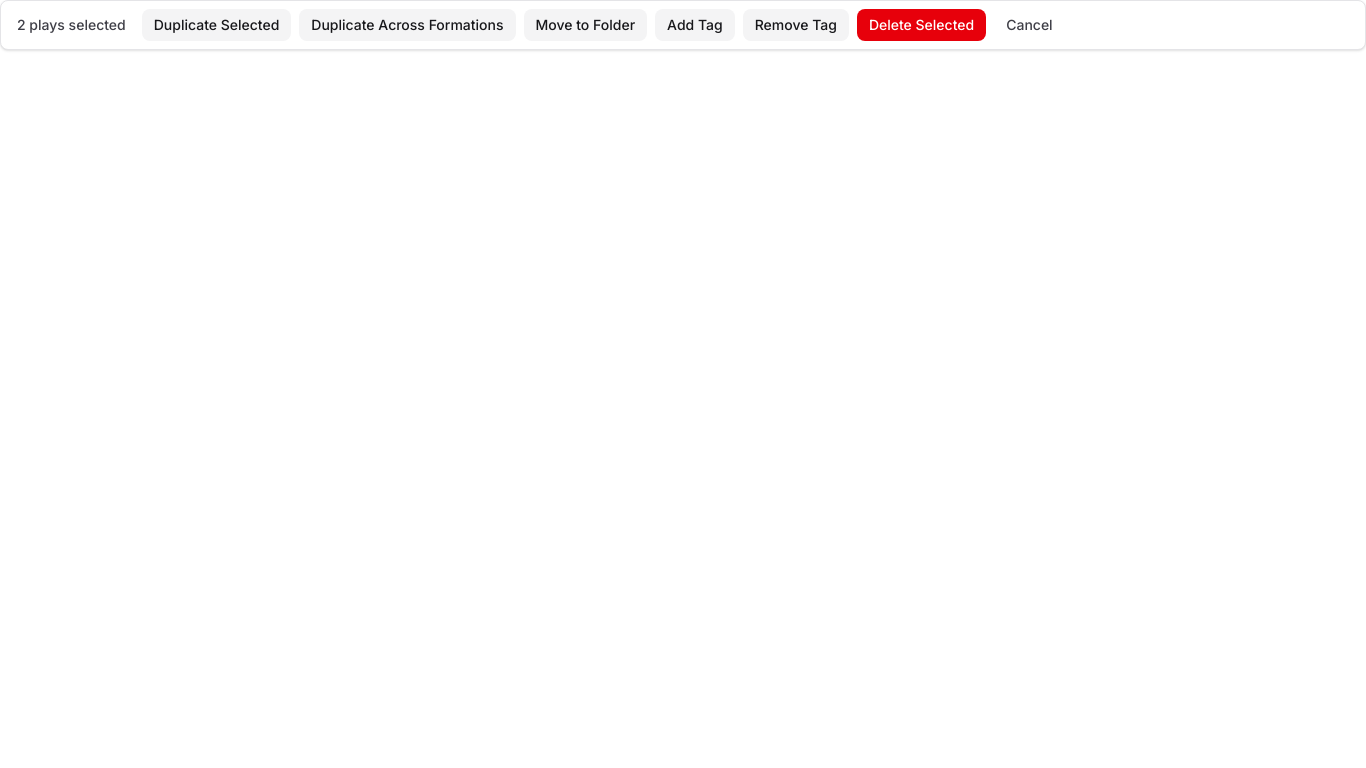
Test case: BulkOperations › opens move dialog and requires folder ID
The width and height of the screenshot is (1366, 768).
Click the button "Move to Folder" at [585, 25], box 524,9 -> 647,41
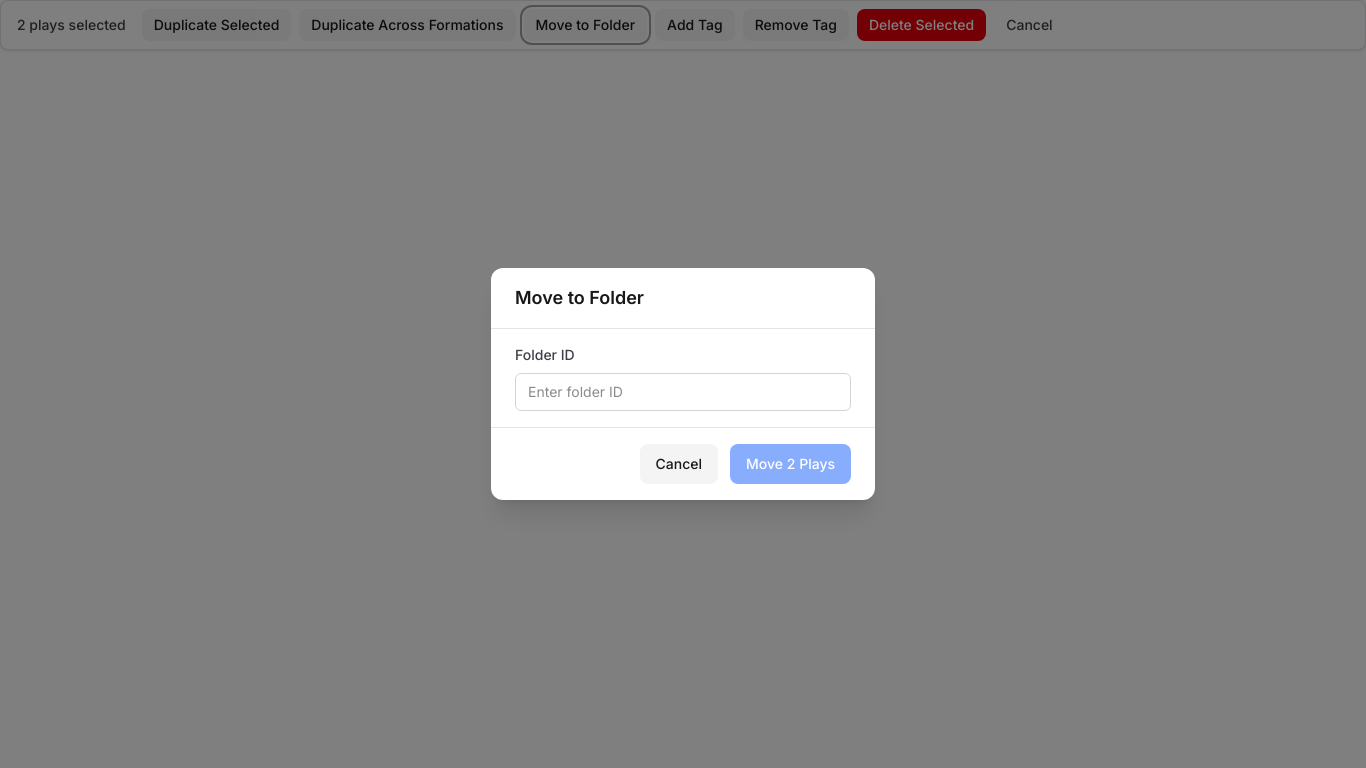
Now the dialog is shown
Now the text "Folder ID" is shown, box 515,346 -> 575,363
Now the button "Move 2 Plays" is disabled, box 730,444 -> 851,484
